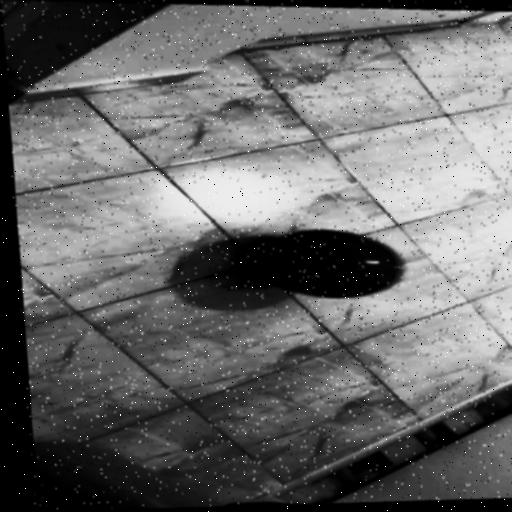balloon: (247, 218, 418, 303)
